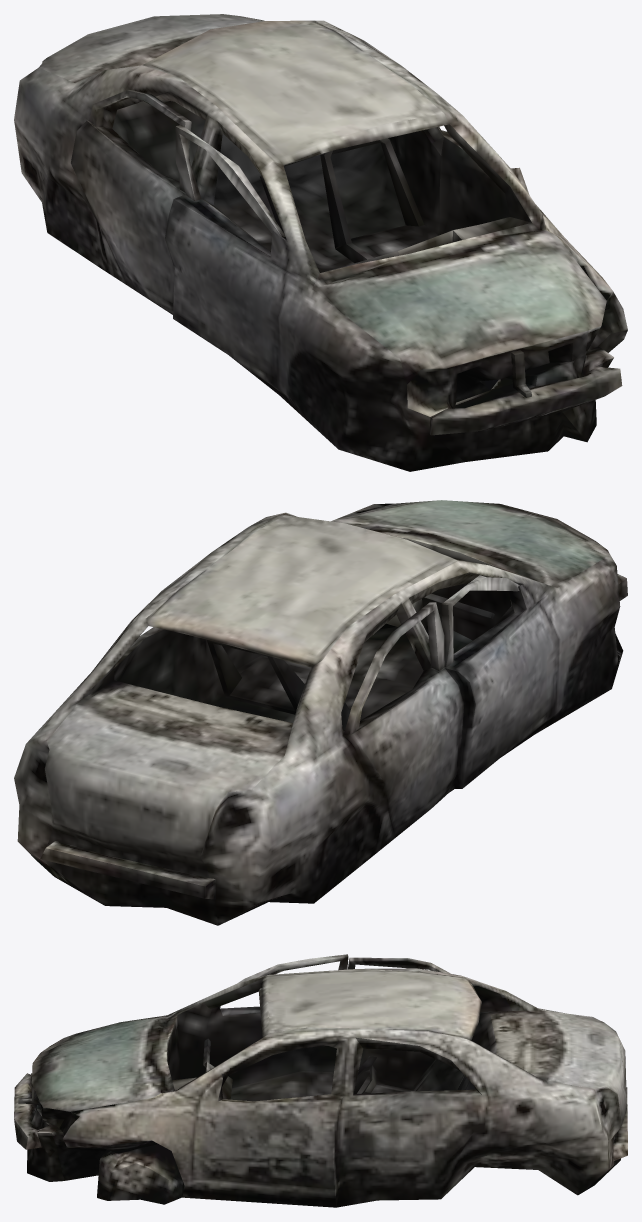
Rendered from burned-car-b.lod1.glb.
The picture shows the model from 3 angles, top to bottom: view 1: azimuth 30°, elevation 25°; view 2: azimuth 150°, elevation 25°; view 3: azimuth 270°, elevation 25°; orthographic projection. The views are drawn at different scales.
Visible parts, largest first — view 1: default002_Material #26_0; view 2: default002_Material #26_0; view 3: default002_Material #26_0.
Boxes of the visible parts, left/top/right/bottom form: default002_Material #26_0: left=14, top=14, right=627, bottom=471; default002_Material #26_0: left=14, top=500, right=627, bottom=925; default002_Material #26_0: left=14, top=954, right=627, bottom=1207.
Size of the model in its own units: 1.91 by 1.26 by 4.49.
1 material, 1 textured.
